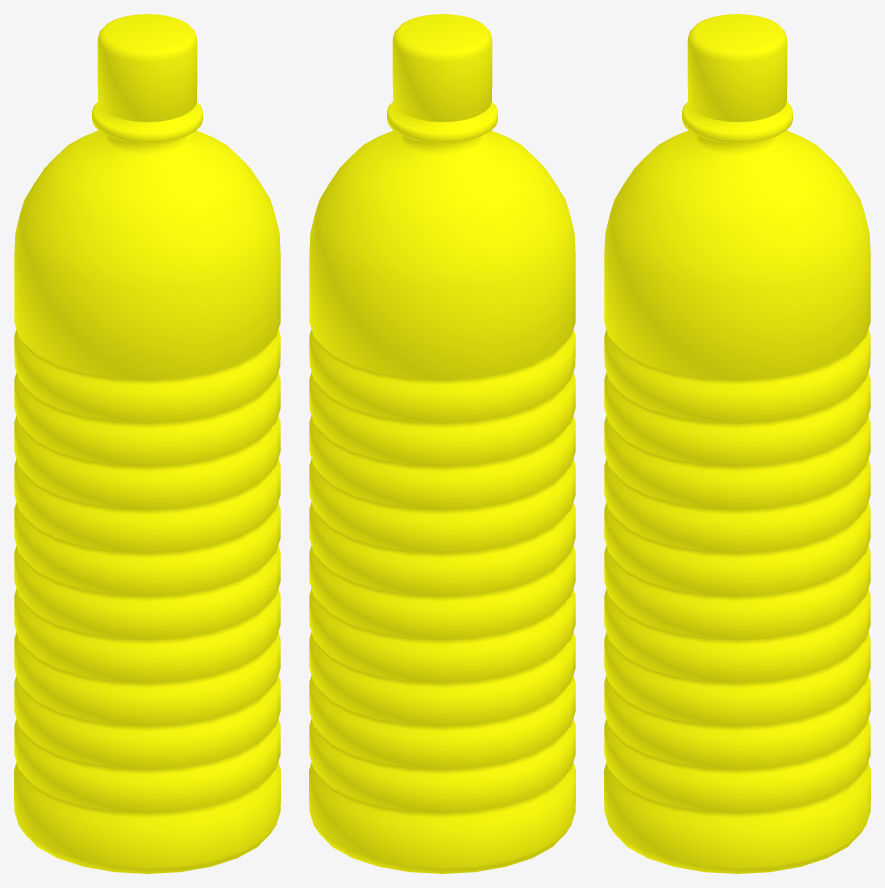
File: SM_Bottle_01.glb
The picture shows the model from 3 angles, left to right: view 1: azimuth 30°, elevation 25°; view 2: azimuth 150°, elevation 25°; view 3: azimuth 270°, elevation 25°; orthographic projection.
Parts seen in each view (by area): view 1: SM_Bottle_01_LOD0; view 2: SM_Bottle_01_LOD0; view 3: SM_Bottle_01_LOD0.
Part boxes in pixels (<box>): SM_Bottle_01_LOD0: <box>14,14,280,873</box>; SM_Bottle_01_LOD0: <box>309,14,575,873</box>; SM_Bottle_01_LOD0: <box>604,14,870,873</box>.
Size of the model in its own units: 0.0881 by 0.2888 by 0.0881.
Materials: 1 (1 with a texture image).
